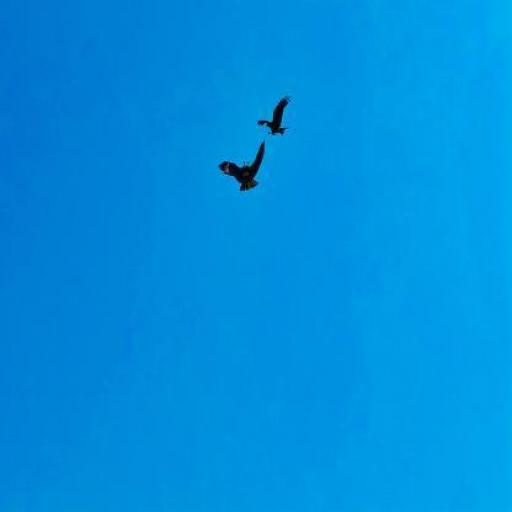bird: (219, 139, 265, 191), (256, 97, 289, 136)
